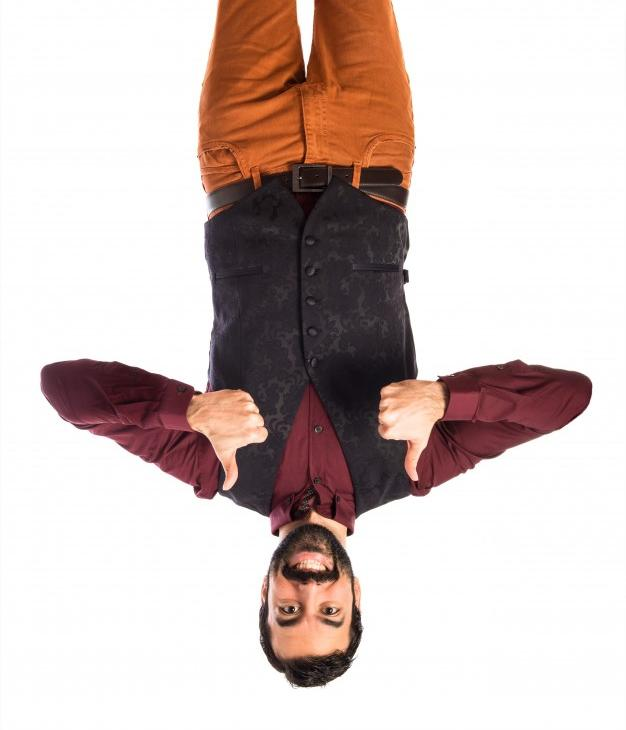thumbsdown: (218, 390, 269, 491), (378, 382, 421, 482)
